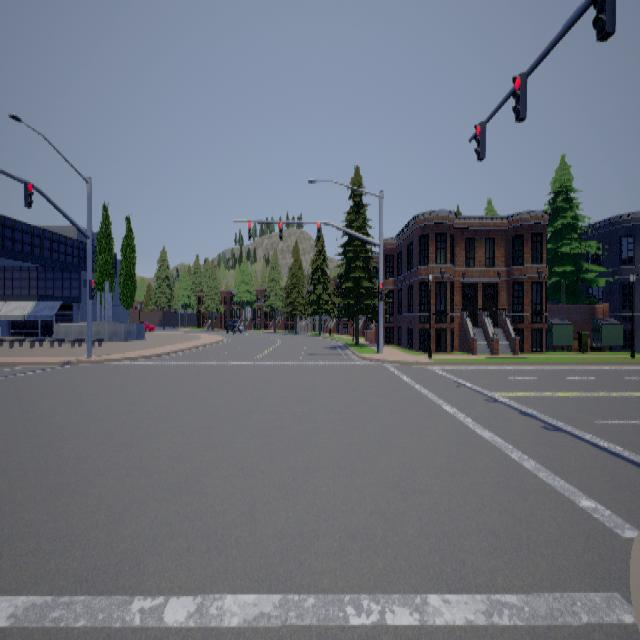red_light: (511, 71, 526, 121), (473, 120, 485, 160), (23, 180, 33, 207), (88, 278, 94, 298), (316, 222, 321, 240), (278, 220, 282, 240), (378, 282, 382, 300), (248, 220, 251, 240)
traffic_light: (591, 0, 615, 40)
